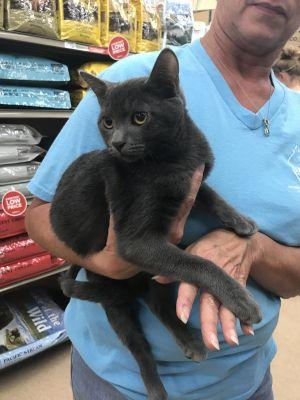rblue: (81, 44, 195, 170)
